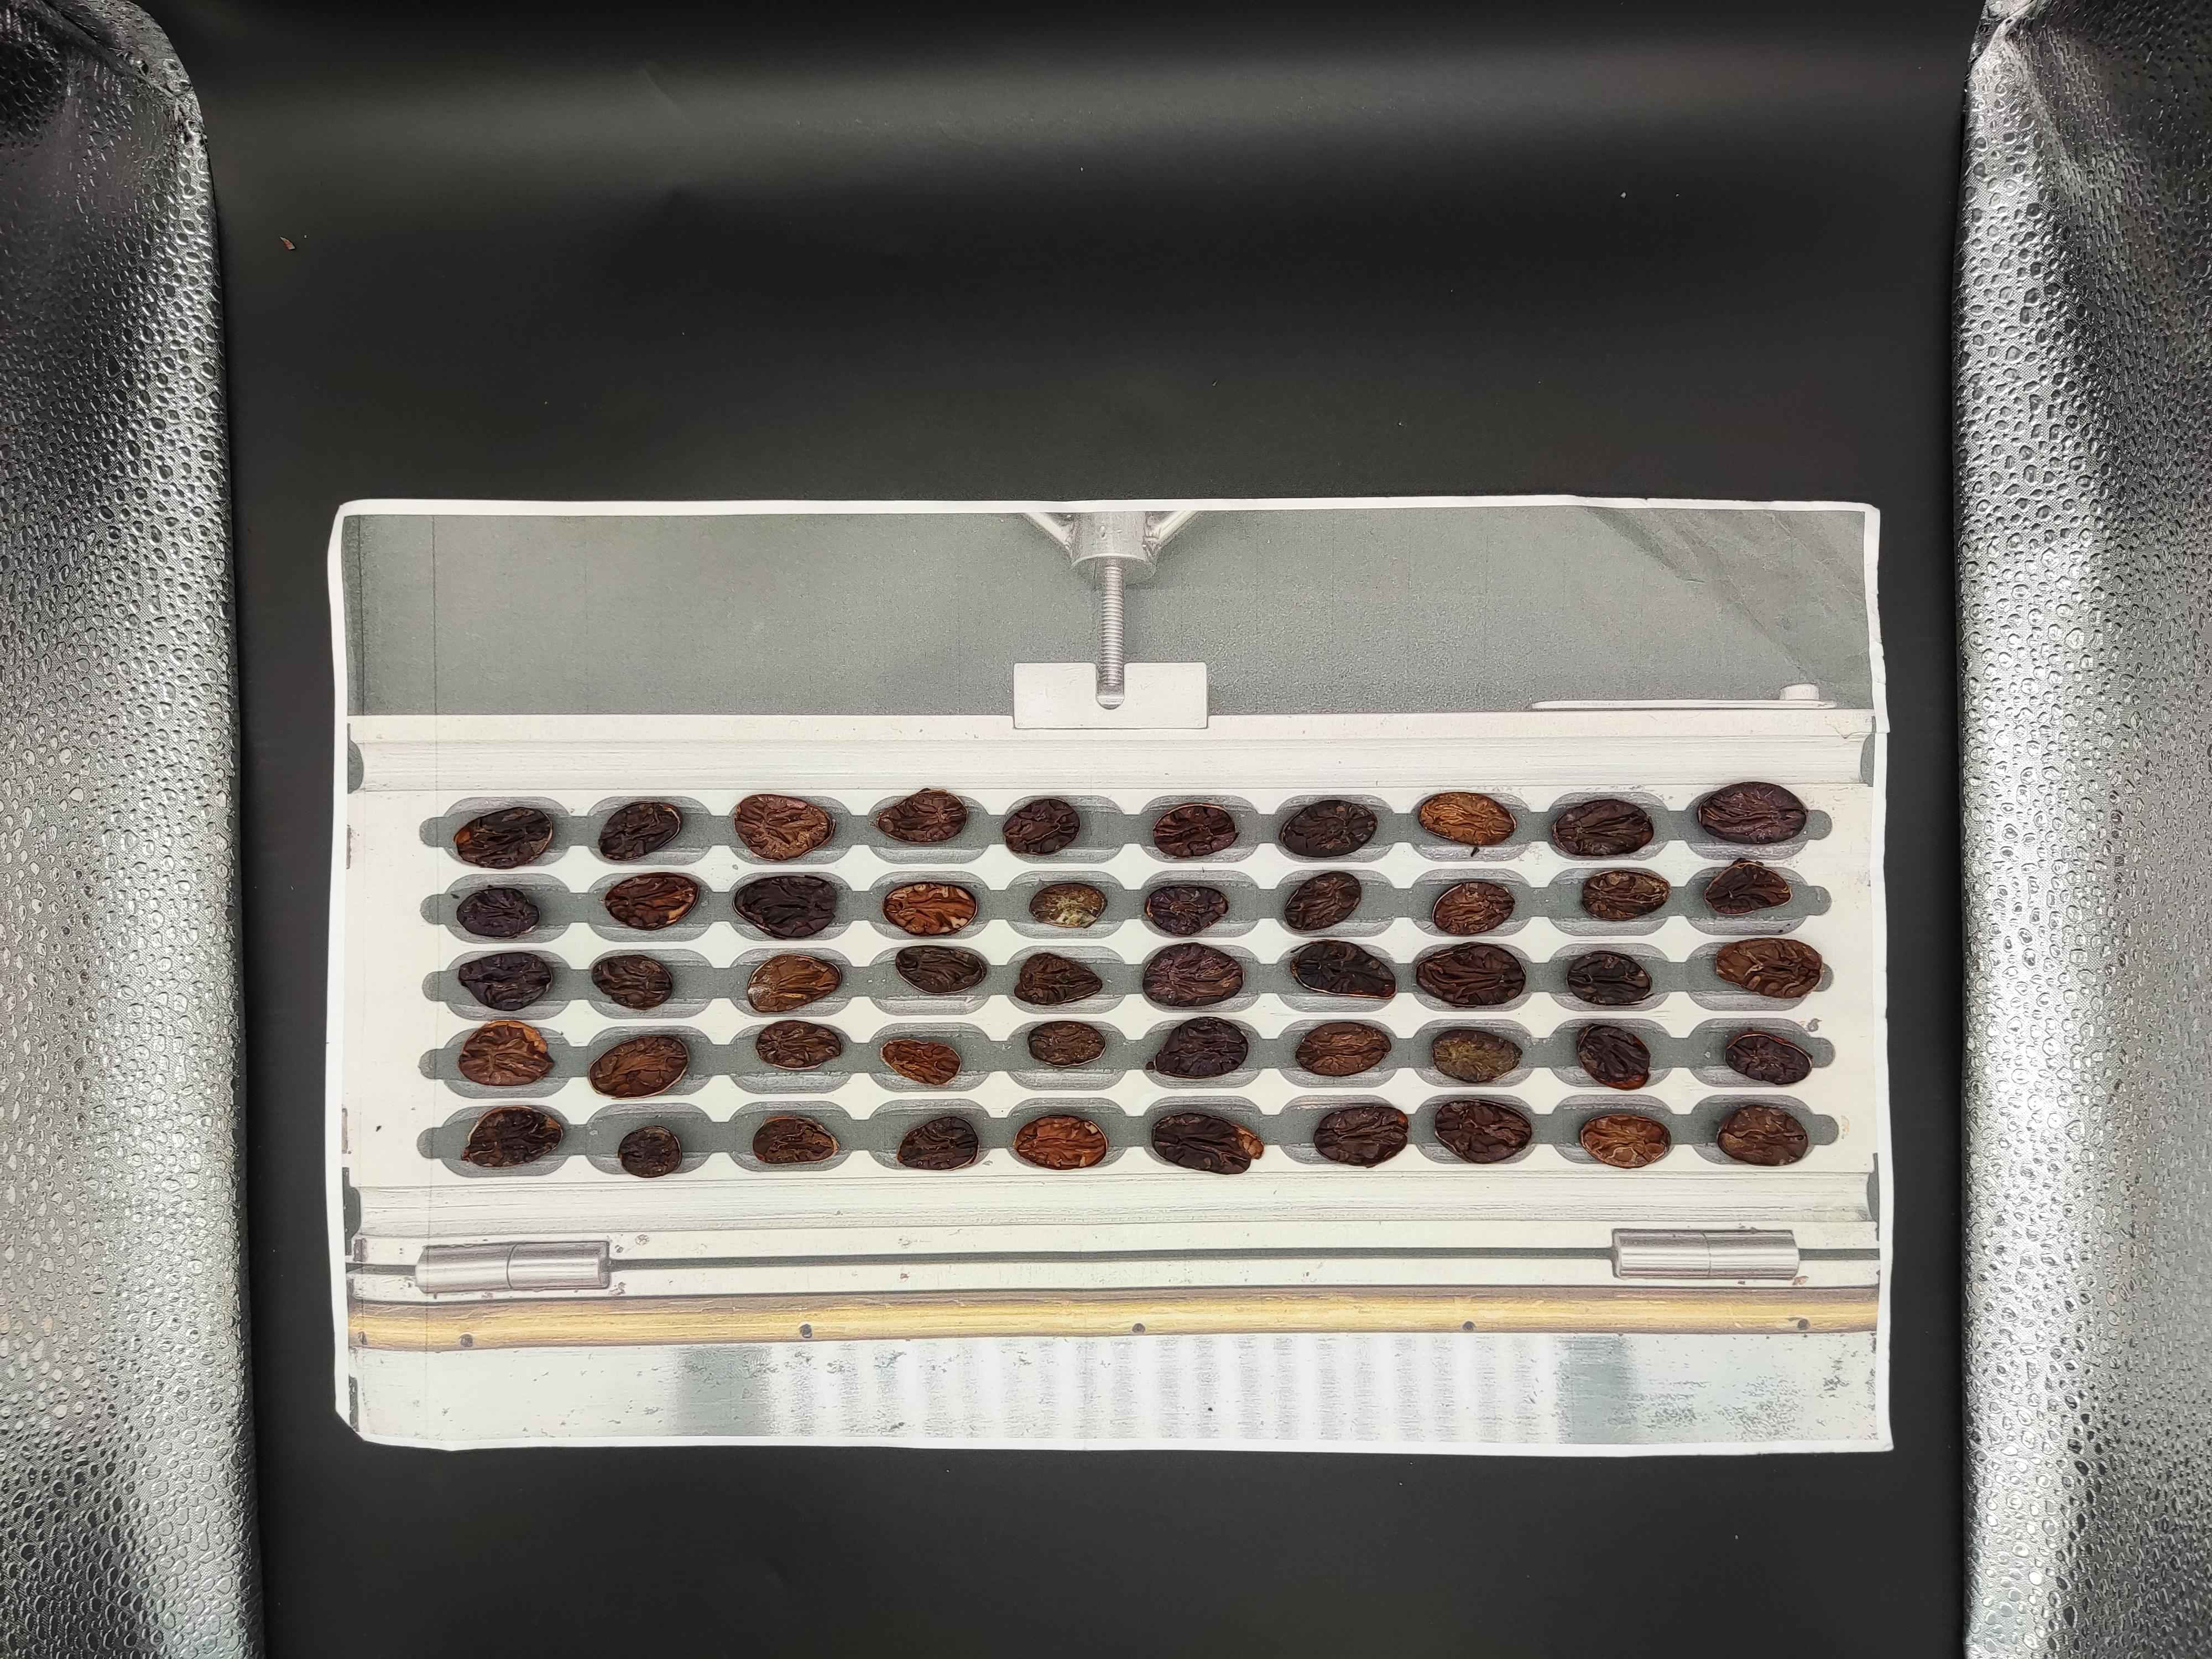Brown - G1: (1803, 479, 1864, 519), (1310, 521, 1366, 559), (1529, 448, 1585, 483), (1386, 444, 1442, 479), (1597, 568, 1651, 603), (1886, 444, 1937, 476), (1465, 519, 1515, 551), (1529, 530, 1576, 559)
Brown - G2: (1453, 404, 1510, 444), (1954, 479, 2017, 516), (1526, 401, 1578, 436), (1597, 486, 1648, 521), (1886, 570, 1939, 603), (1810, 450, 1857, 483)
Brown - G3: (1378, 528, 1439, 565), (1954, 565, 2010, 601), (1804, 403, 1860, 437), (1742, 521, 1796, 554), (1463, 568, 1514, 599)
Brown - G4: (1602, 521, 1649, 549)
Insect-damaged: (1810, 525, 1864, 558)
Mouldy: (1461, 484, 1514, 521), (1602, 450, 1649, 479)
Partly Purple - G1: (1453, 446, 1510, 483), (1665, 410, 1717, 443)
Partly Purple - G2: (1737, 479, 1799, 516), (1660, 481, 1719, 519), (1871, 406, 1930, 443), (1750, 563, 1804, 603), (1312, 411, 1367, 448), (1538, 566, 1588, 603), (1385, 408, 1433, 443), (1590, 408, 1635, 443)
Total Purple - G2: (1312, 486, 1366, 519), (1663, 451, 1712, 483)
Total Purple - G3: (1944, 397, 2008, 437), (1667, 519, 1723, 556), (1961, 526, 2010, 559), (1312, 453, 1359, 483)
Very Dark Brown - G1: (1665, 566, 1733, 606), (1313, 563, 1372, 601), (1885, 523, 1926, 561)
Very Dark Brown - G2: (1811, 559, 1869, 599), (1878, 484, 1930, 519), (1735, 444, 1782, 481), (1951, 436, 2000, 471), (1381, 486, 1428, 521)
Very Dark Brown - G3: (1731, 408, 1787, 443), (1536, 481, 1588, 511), (1392, 575, 1435, 608)
